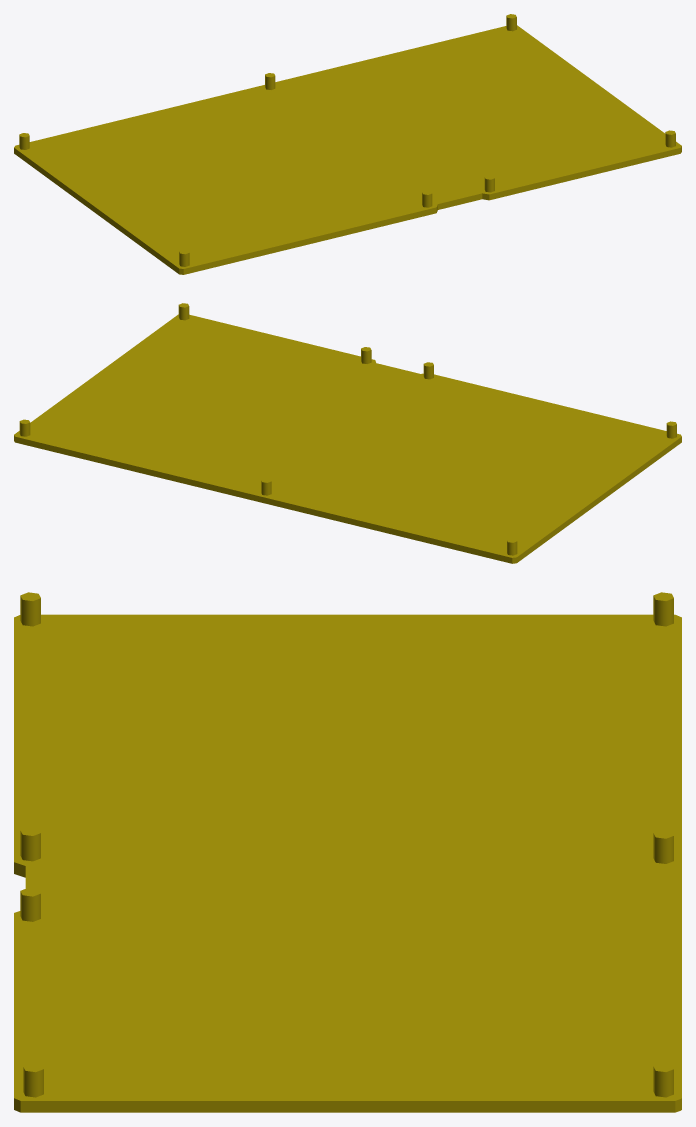
Rendered from casa01_sota.fbx.
3 renders of one model, top to bottom at view 1: azimuth 30°, elevation 25°; view 2: azimuth 150°, elevation 25°; view 3: azimuth 270°, elevation 25°, orthographic. The views are drawn at different scales.
Parts seen in each view (by area): view 1: casa01_sota; view 2: casa01_sota; view 3: casa01_sota.
Boxes of the visible parts, bbox=[...] form: casa01_sota: bbox=[14, 14, 681, 274]; casa01_sota: bbox=[14, 303, 681, 563]; casa01_sota: bbox=[14, 592, 681, 1112].
Bounding box in the file's own units: 17.06 × 0.6065 × 9.9.
